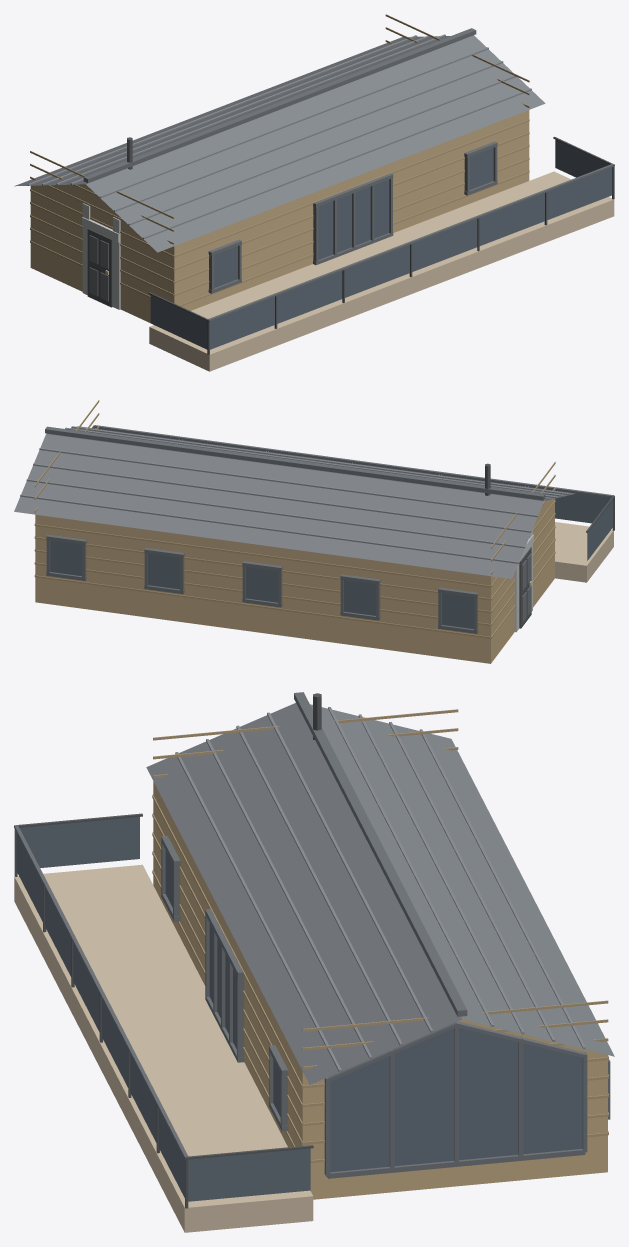
3 renders of one model, top to bottom at view 1: azimuth 30°, elevation 25°; view 2: azimuth 150°, elevation 25°; view 3: azimuth 270°, elevation 25°, orthographic. The views are drawn at different scales.
Visible parts, largest first — view 1: slate, door_wood, larch, slate_dk, slate_lt, door_wood_p, window_glass_005, window_glass_002, window_glass_004, window_glass_006, window_glass_001, window_glass_003 (+12 smaller); view 2: slate, door_wood, slate_dk, slate_lt, door_wood_p, larch, window_glass_001, window_glass_017, window_glass_020, window_glass_016, window_glass_018, window_glass_019 (+5 smaller); view 3: slate, larch, window_glass_015, door_wood, slate_dk, slate_lt, door_wood_p, window_glass_008, window_glass_007, pipe, window_glass_004, window_glass_006 (+4 smaller).
Part boxes in pixels (x1,y1,x2,y2): slate: [14, 35, 545, 252]; door_wood: [30, 110, 529, 322]; larch: [149, 171, 614, 371]; slate_dk: [83, 28, 613, 321]; slate_lt: [27, 34, 531, 238]; door_wood_p: [30, 14, 529, 306]; window_glass_005: [479, 193, 544, 245]; window_glass_002: [277, 271, 342, 323]; window_glass_004: [412, 219, 477, 271]; window_glass_006: [547, 167, 612, 219]; window_glass_001: [210, 296, 274, 349]; window_glass_003: [345, 245, 409, 297]; slate: [14, 426, 575, 578]; door_wood: [35, 499, 554, 663]; slate_dk: [45, 425, 613, 633]; slate_lt: [20, 426, 569, 563]; door_wood_p: [34, 400, 555, 638]; larch: [555, 522, 613, 582]; window_glass_001: [529, 486, 610, 523]; window_glass_017: [148, 553, 179, 589]; window_glass_020: [442, 593, 473, 629]; window_glass_016: [50, 540, 81, 576]; window_glass_018: [246, 566, 277, 602]; window_glass_019: [344, 580, 375, 615]; slate: [146, 703, 614, 1084]; larch: [14, 864, 313, 1232]; window_glass_015: [330, 1027, 582, 1172]; door_wood: [153, 781, 607, 1199]; slate_dk: [14, 692, 610, 1178]; slate_lt: [175, 707, 585, 1071]; door_wood_p: [152, 709, 608, 1162]; window_glass_008: [188, 1148, 310, 1201]; window_glass_007: [19, 817, 139, 867]; pipe: [14, 693, 321, 1208]; window_glass_004: [102, 999, 128, 1087]; window_glass_006: [158, 1109, 184, 1197].
Bounding box in the file's own units: 15.79 × 4.49 × 10.97.
